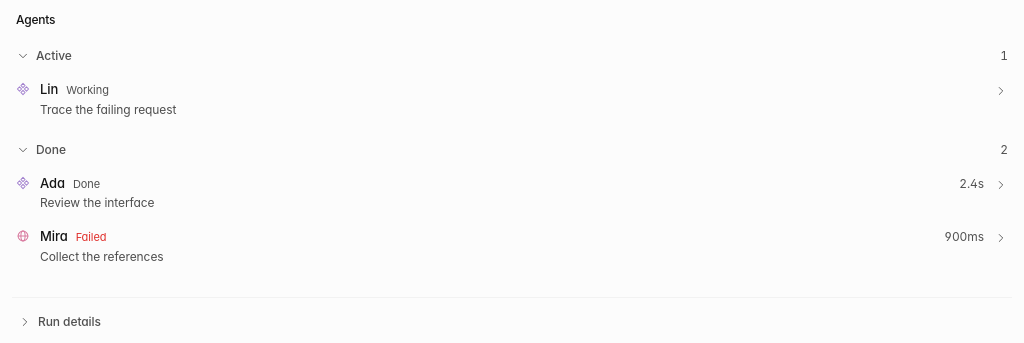
it: AgentActivityPanel › groups real subagents into Active and Done with explicit failed outcomes
Expected: the text "Lin" is shown, [40,80,58,100]
Expected: the text "Mira" is shown, [40,227,68,246]
Click the button "Done 2". click: (23, 150)
box: [8,134,1016,166]
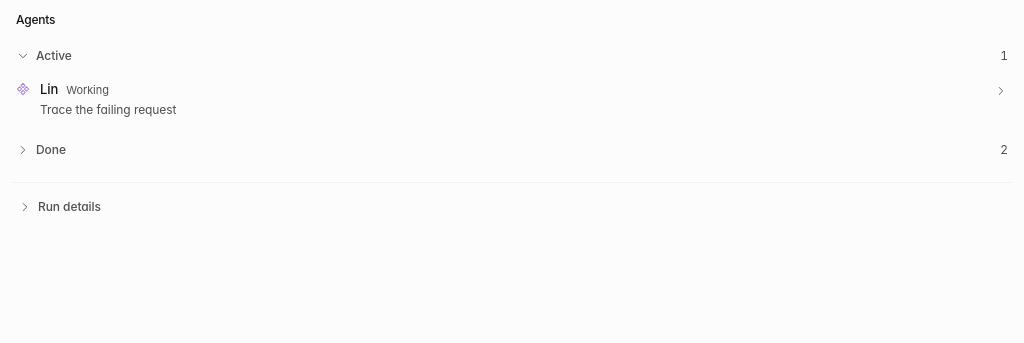
Result: the button "Ada" is gone
